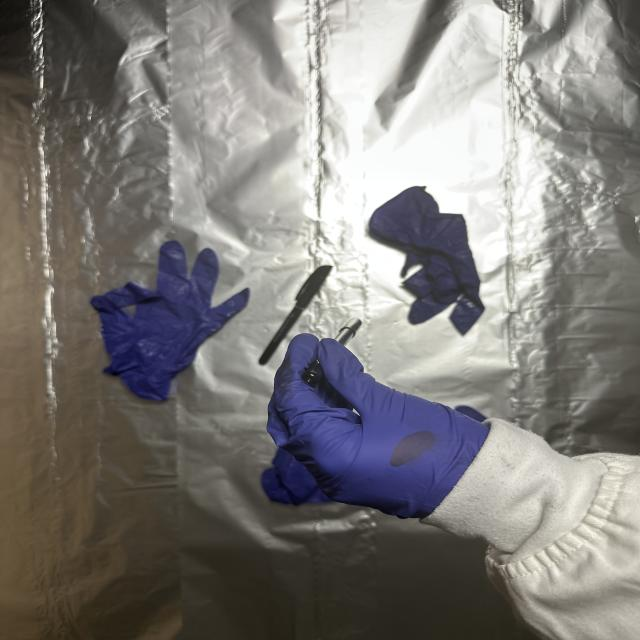gloves_contaminated: (267, 334, 489, 518)
